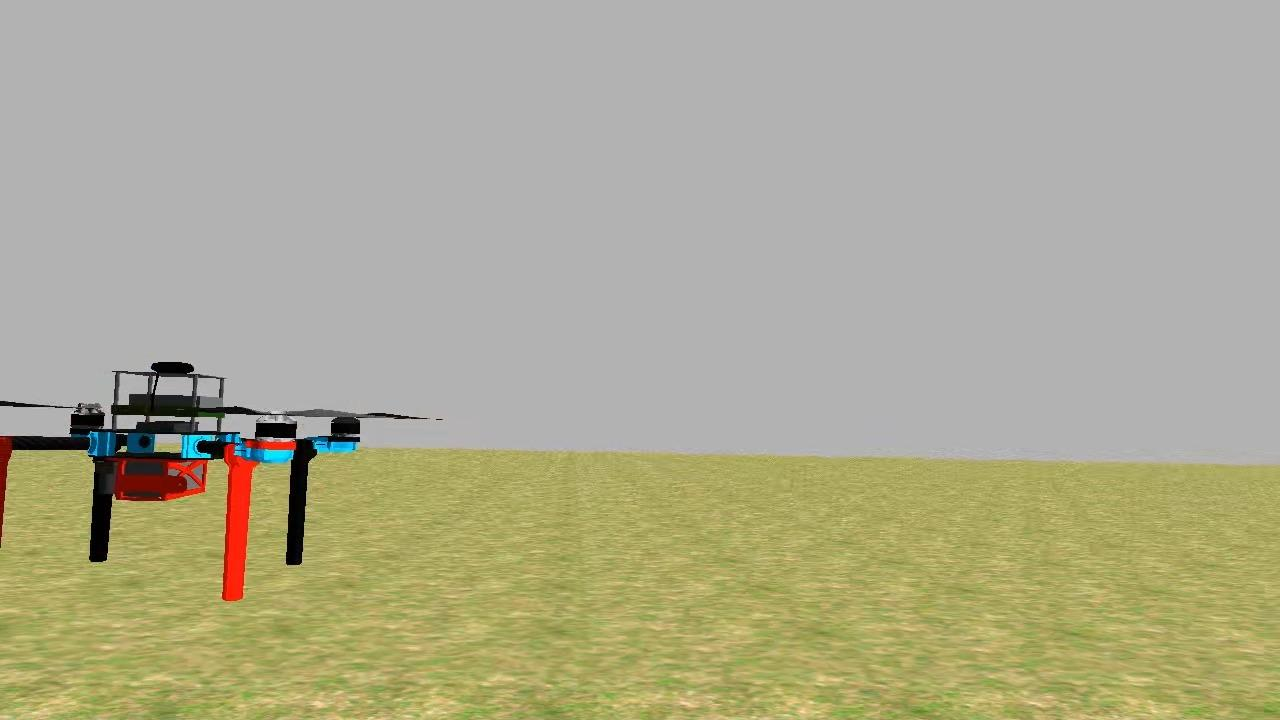UAV: (0, 350, 399, 604)
